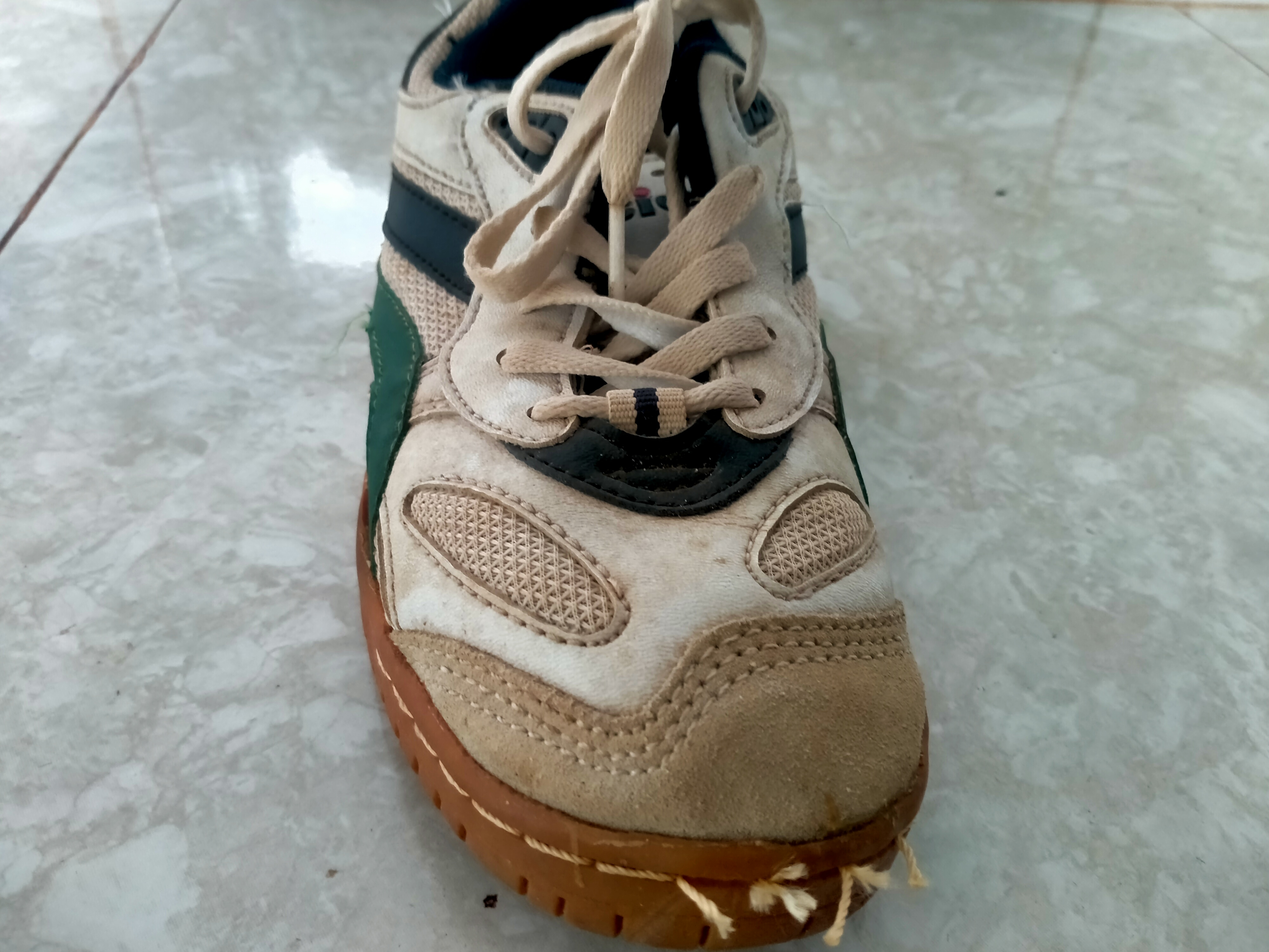broken: (668, 830, 911, 901)
